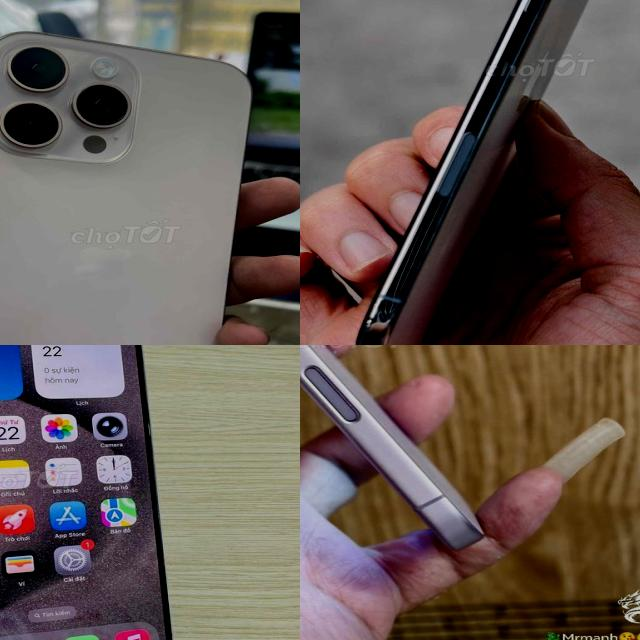gen_15: (0, 345, 206, 640)
gen_16: (0, 33, 250, 345)
gen_17: (356, 0, 587, 345), (300, 345, 482, 549)
